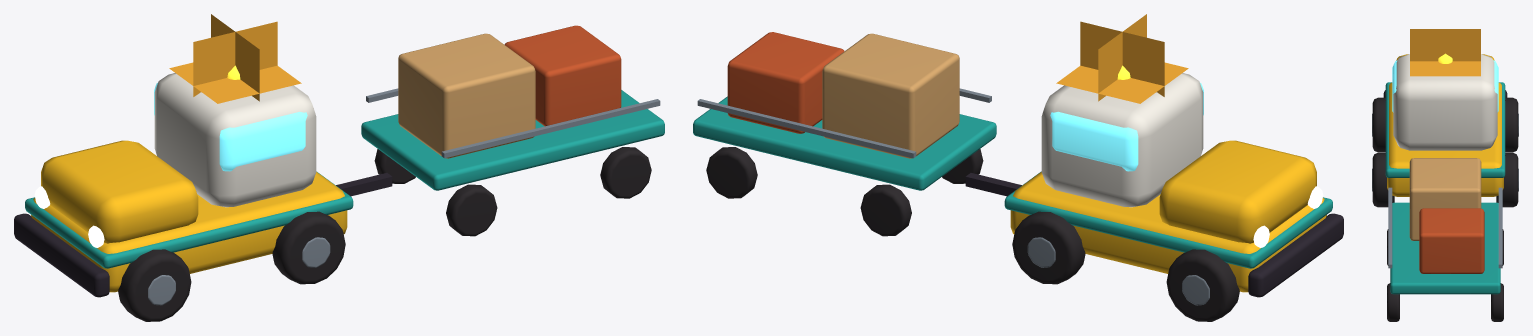
File: dune_tug.glb
The picture shows the model from 3 angles, left to right: view 1: azimuth 30°, elevation 25°; view 2: azimuth 150°, elevation 25°; view 3: azimuth 270°, elevation 25°; orthographic projection. The views are drawn at different scales.
Parts seen in each view (by area): view 1: Tug; view 2: Tug; view 3: Tug.
Boxes of the visible parts, left/top/right/bottom form: Tug: left=14, top=14, right=664, bottom=321; Tug: left=693, top=14, right=1343, bottom=321; Tug: left=1372, top=29, right=1518, bottom=321.
Size of the model in its own units: 7.45 by 2.8 by 2.26.
